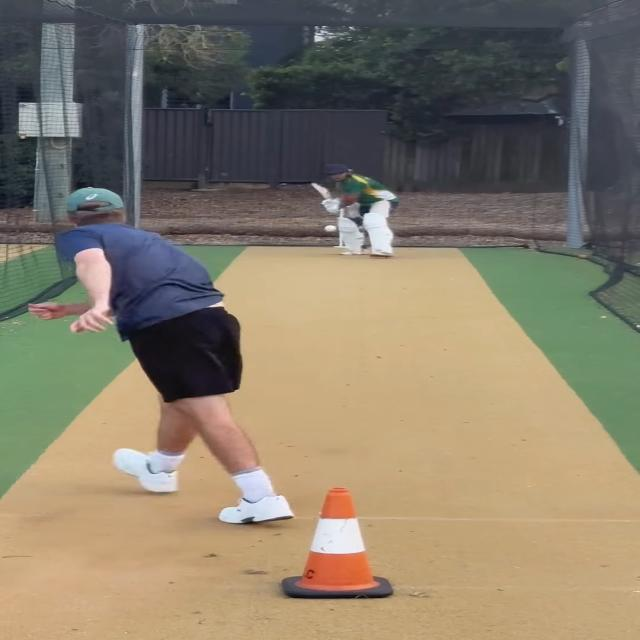Cricket ball: (321, 222, 341, 235)
